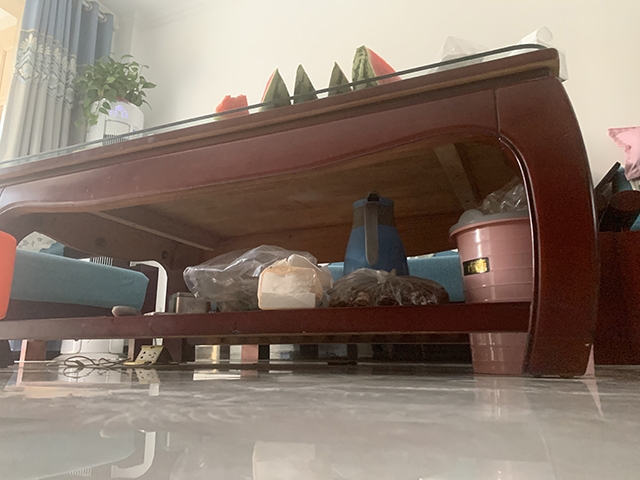sofa: (1, 231, 160, 363)
table: (1, 43, 601, 379)
trashcan: (447, 207, 534, 375)
wire: (45, 356, 135, 370)
